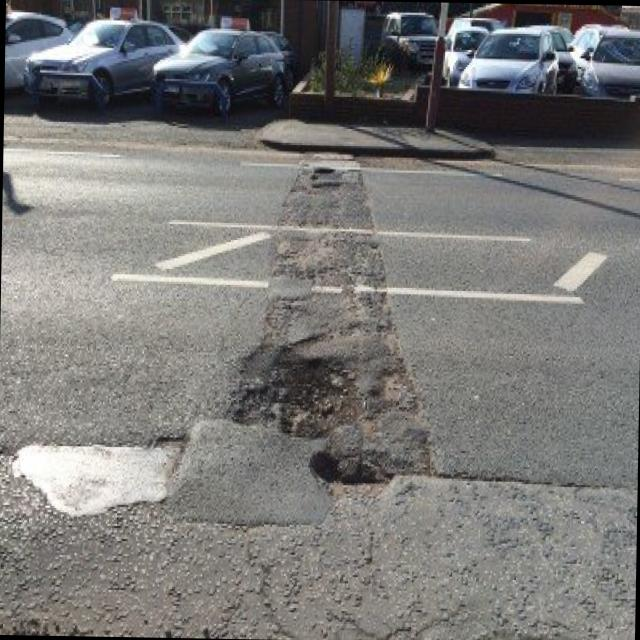Potholes: (204, 334, 418, 500), (0, 404, 199, 542), (260, 130, 400, 306)
